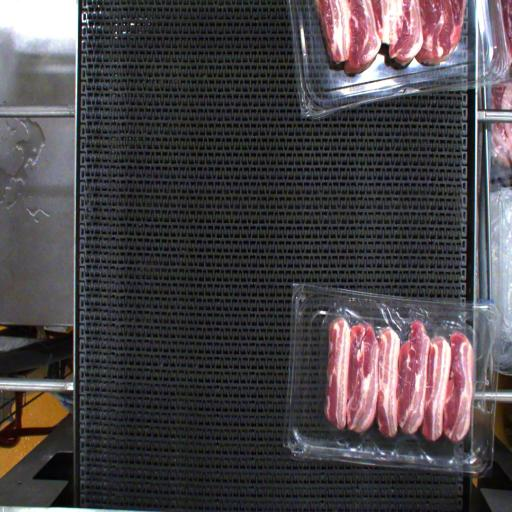unsealed: (320, 289, 486, 447)
